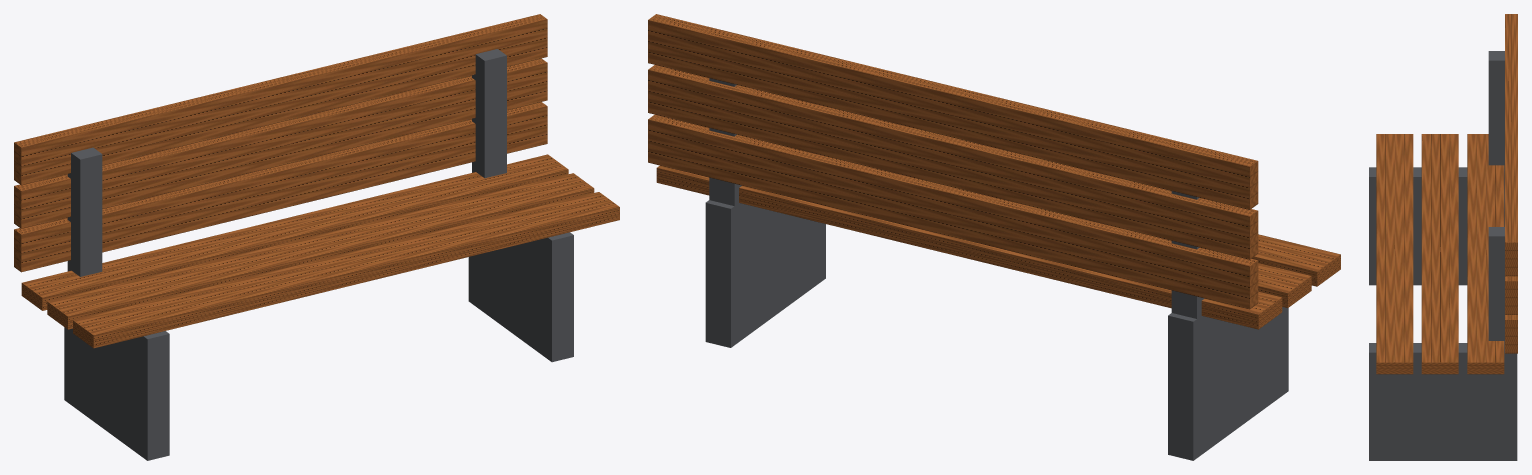
The model's file is skate-park-and-street-sports-park-bench-63c17d3e__33546.glb.
The picture shows the model from 3 angles, left to right: view 1: azimuth 30°, elevation 25°; view 2: azimuth 150°, elevation 25°; view 3: azimuth 270°, elevation 25°; orthographic projection. The views are drawn at different scales.
Parts seen in each view (by area): view 1: park-bench-maple, park-bench-charcoal; view 2: park-bench-maple, park-bench-charcoal; view 3: park-bench-maple, park-bench-charcoal.
Boxes of the visible parts, left/top/right/bottom form: park-bench-maple: left=14, top=14, right=619, bottom=348; park-bench-charcoal: left=64, top=49, right=573, bottom=460; park-bench-maple: left=648, top=14, right=1340, bottom=329; park-bench-charcoal: left=705, top=78, right=1288, bottom=460; park-bench-maple: left=1376, top=14, right=1517, bottom=374; park-bench-charcoal: left=1369, top=51, right=1517, bottom=460.
Size of the model in its own units: 1.9 by 0.93 by 0.5226.
Materials: 2 (1 with a texture image).
